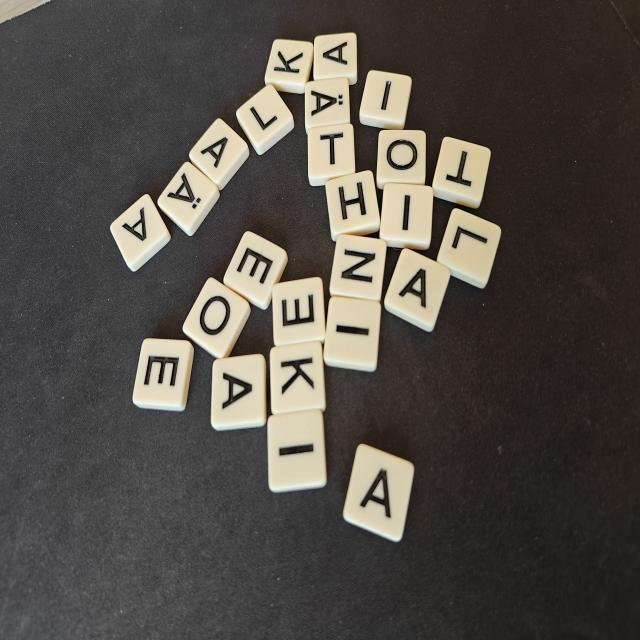a: (343, 444, 414, 541), (384, 249, 450, 332), (110, 194, 170, 271), (189, 118, 249, 190), (211, 354, 267, 431), (313, 32, 357, 84)
a_dot: (158, 162, 219, 236), (304, 77, 350, 134)
e: (223, 231, 288, 309), (132, 338, 194, 411), (272, 277, 325, 345)
h: (325, 170, 380, 241)
i: (267, 409, 327, 492), (323, 296, 381, 371), (380, 183, 433, 249), (359, 71, 412, 129)
k: (270, 340, 326, 414), (264, 39, 313, 93)
l: (437, 209, 501, 288), (236, 85, 294, 155)
n: (330, 234, 387, 302)
o: (183, 278, 250, 358), (376, 130, 426, 189)
t: (432, 137, 491, 208), (308, 123, 355, 186)
